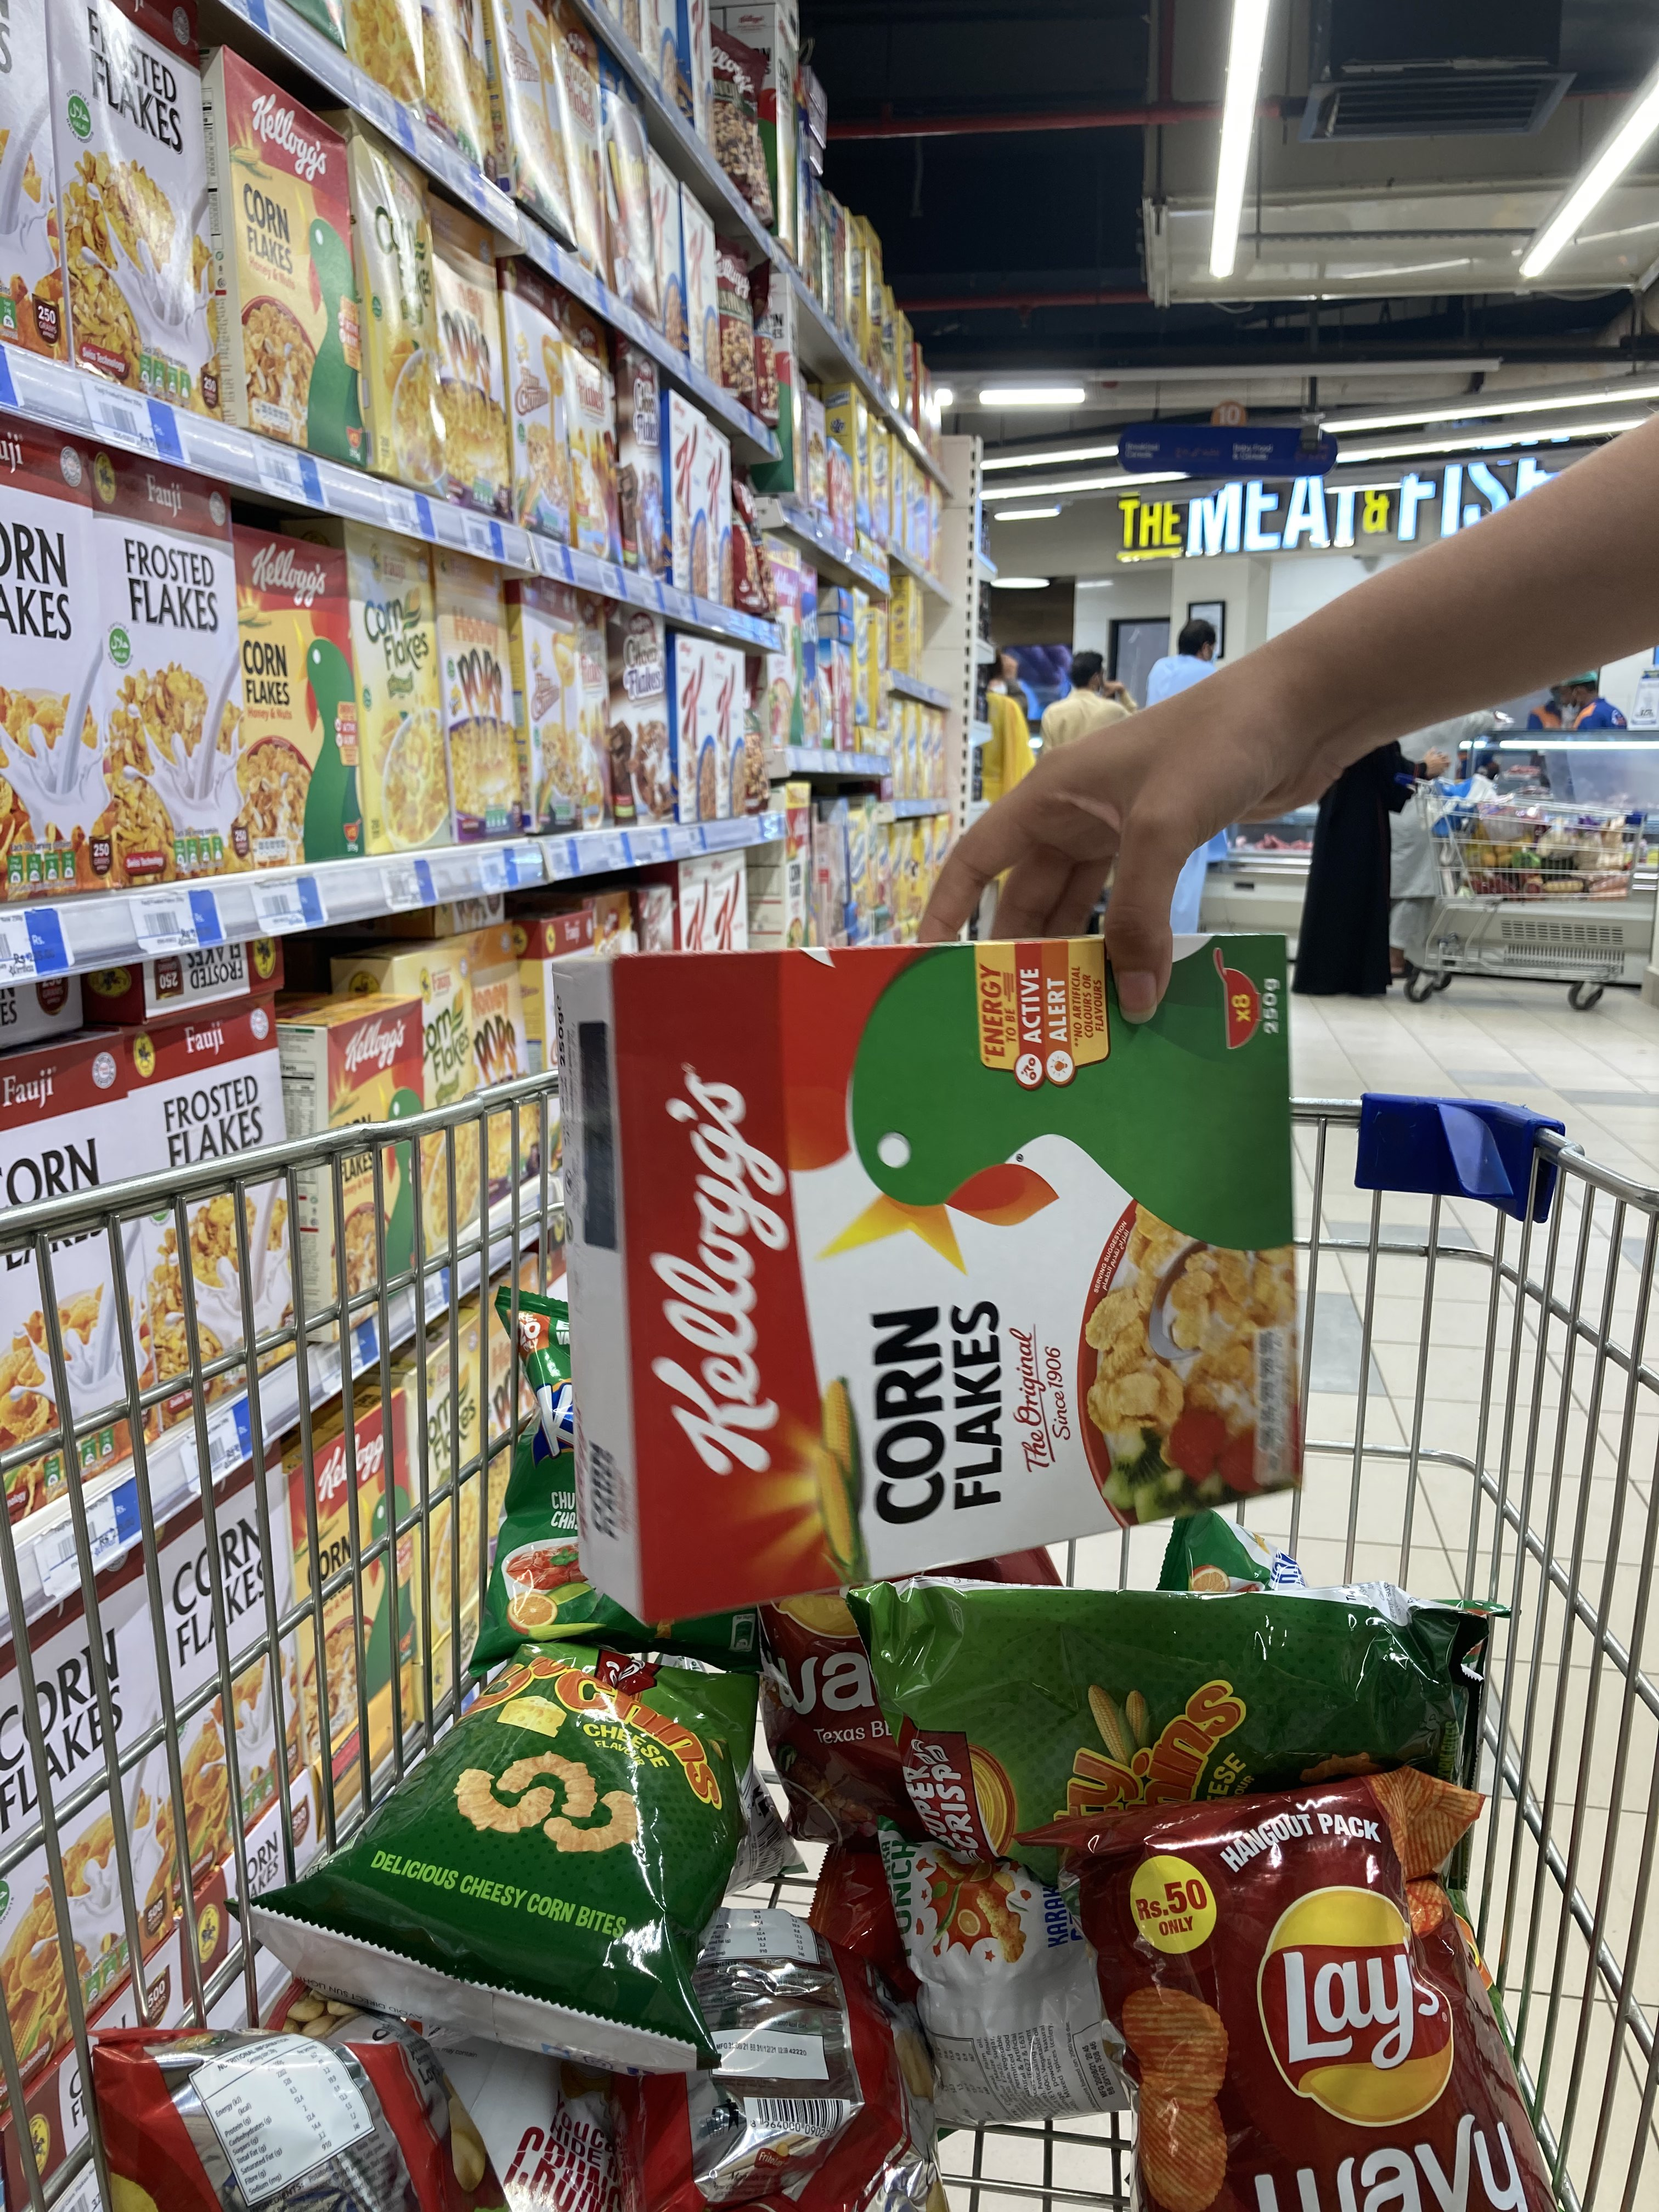Kellogg's Corn Flakes: (549, 939, 1314, 1627)
